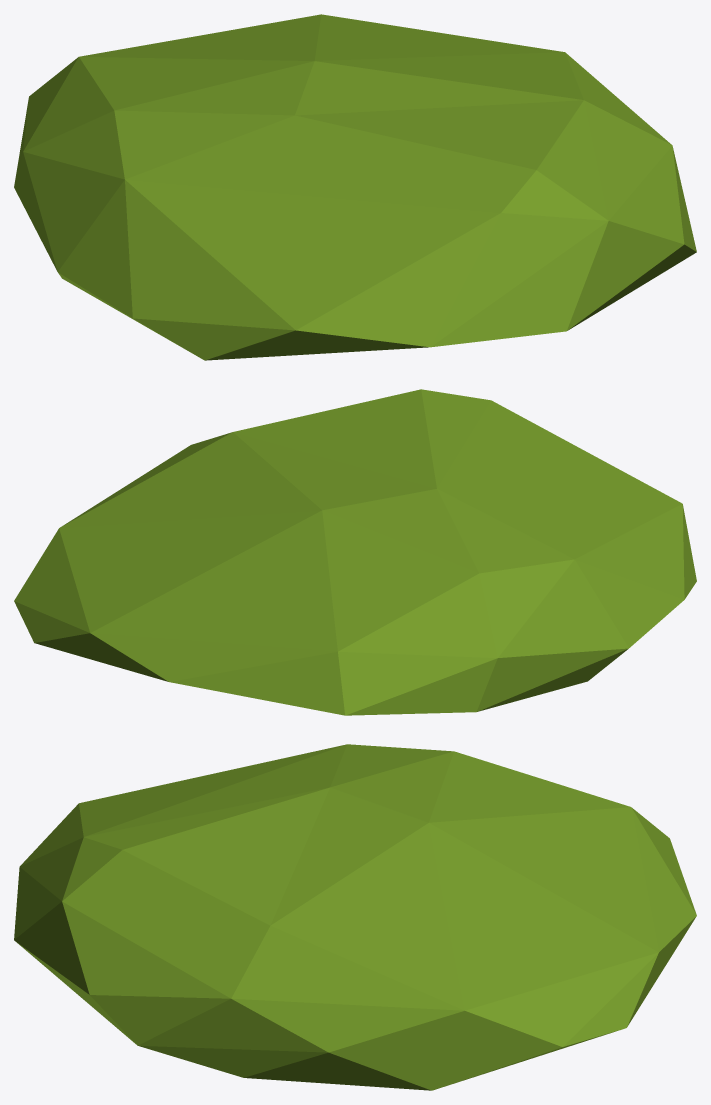
File: sammal.fbx
The picture shows the model from 3 angles, top to bottom: view 1: azimuth 30°, elevation 25°; view 2: azimuth 150°, elevation 25°; view 3: azimuth 270°, elevation 25°; orthographic projection. The views are drawn at different scales.
Parts seen in each view (by area): view 1: Cube; view 2: Cube; view 3: Cube.
Part boxes in pixels (box(x1,y1,x2,y2)): Cube: box(14, 14, 696, 360); Cube: box(14, 389, 696, 715); Cube: box(14, 744, 696, 1090).
Bounding box in the file's own units: 742 × 216 × 809.
